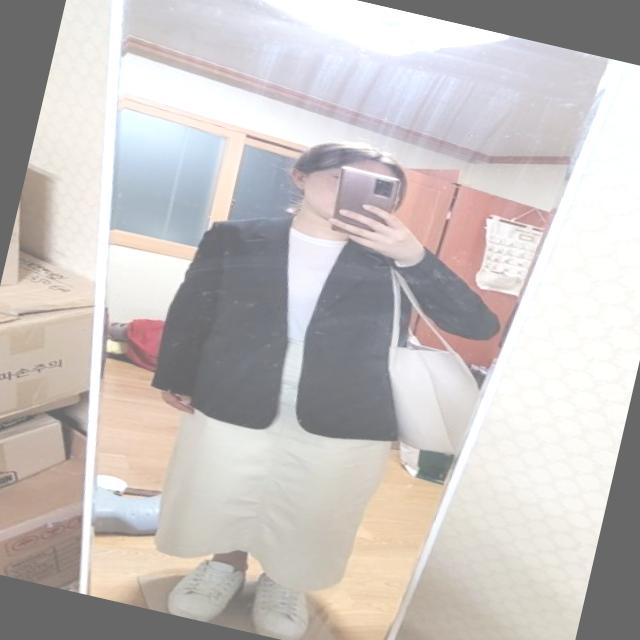blazer: (142, 185, 516, 480)
skirt: (143, 304, 416, 606)
